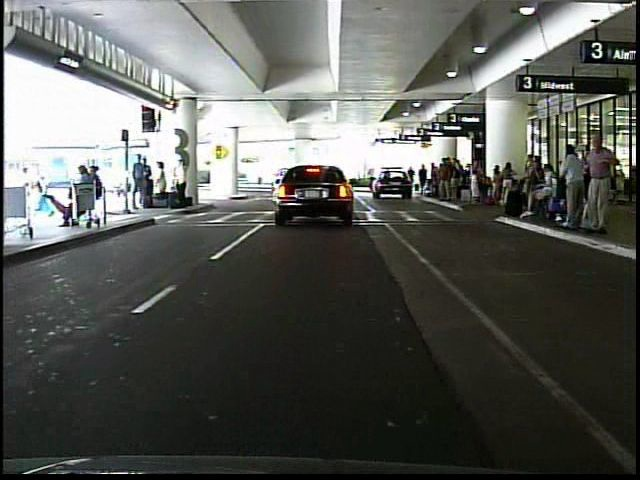person: (579, 133, 618, 238), (555, 141, 587, 233), (126, 152, 149, 211), (23, 162, 43, 221), (174, 157, 189, 206), (156, 159, 171, 205), (418, 161, 429, 192), (407, 161, 417, 193)
